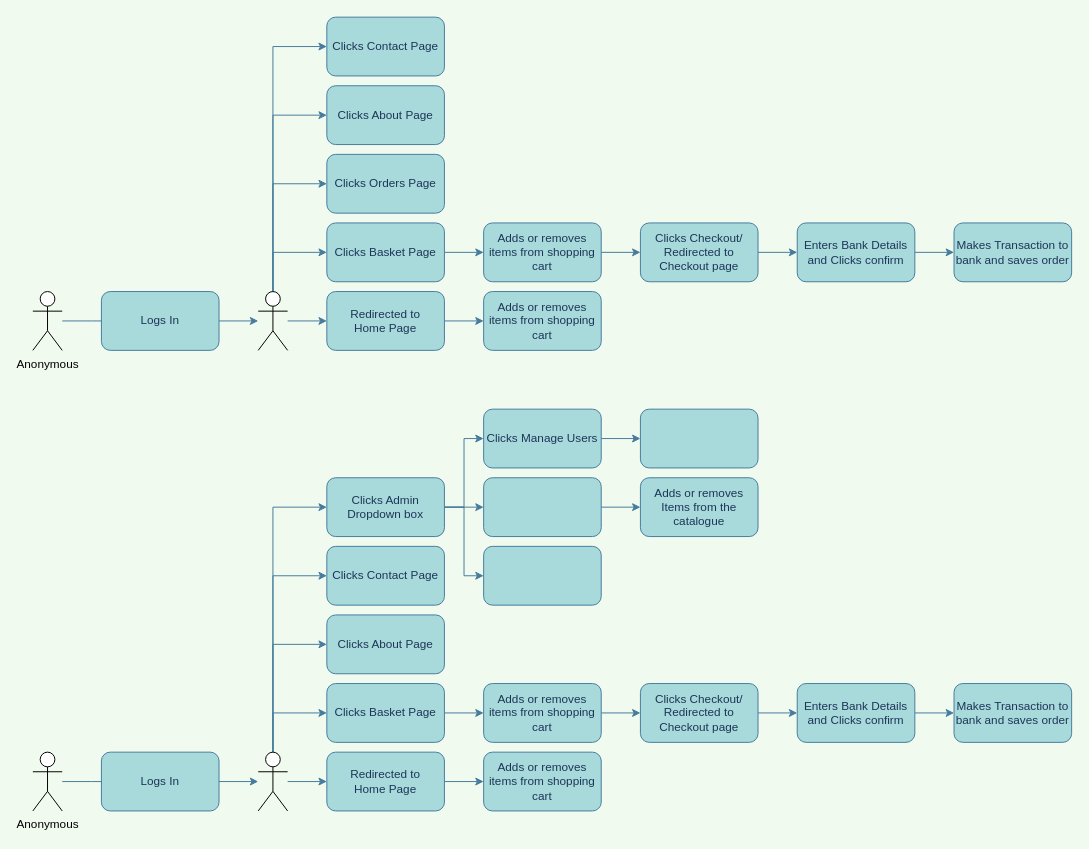
The diagram is 1089 pixels wide and 849 high, and some of its shapes have lost their labels. The shapes that lost their labels are listed below. From the top down, each one's centre as x and y in pixels, then its label:
At point (272, 320): "User".
At point (698, 438): "Modifies user information".
At point (542, 507): "Clicks Manage Catalogue".
At point (542, 575): "Clicks View All Orders".
At point (272, 781): "Admin".
